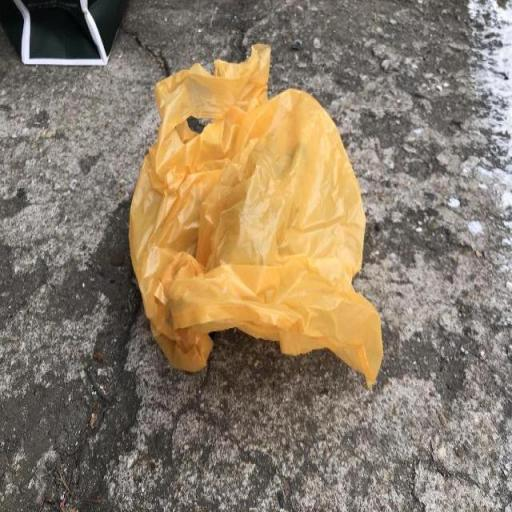plastic-bag: (124, 40, 387, 388)
